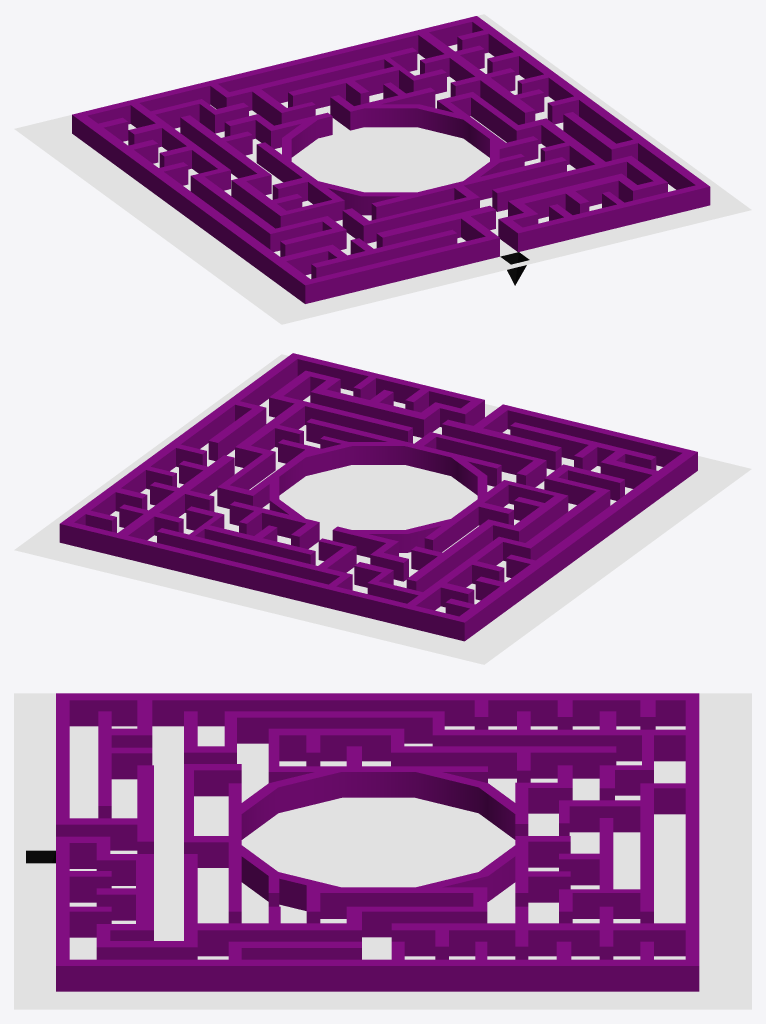
3 views of the same model, one above another, from view 1: azimuth 30°, elevation 25°; view 2: azimuth 150°, elevation 25°; view 3: azimuth 270°, elevation 25° (orthographic). The views are drawn at different scales.
Visible parts, largest first — view 1: SketchUp (×2); view 2: SketchUp (×2); view 3: SketchUp (×2).
Boxes of the visible parts, bbox=[...] form: SketchUp (×2): bbox=[14, 14, 751, 324]; SketchUp (×2): bbox=[14, 353, 751, 664]; SketchUp (×2): bbox=[14, 693, 751, 1009].
Size of the model in its own units: 78.27 by 77.17 by 7.4.
